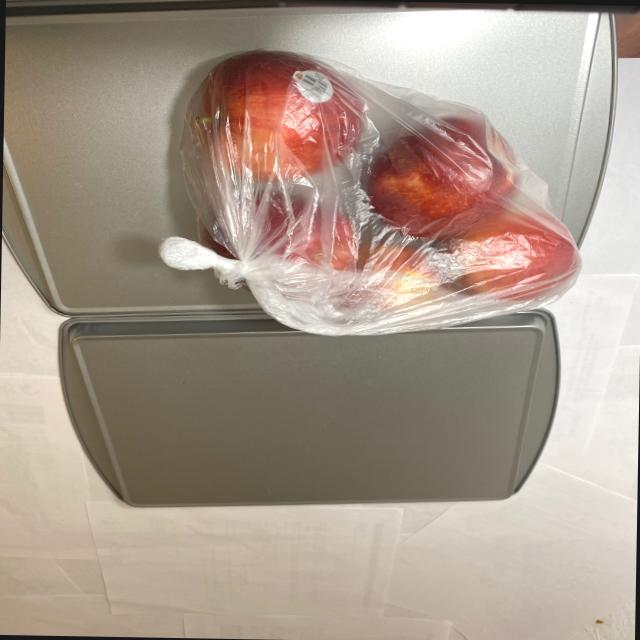apple: (178, 46, 584, 322)
